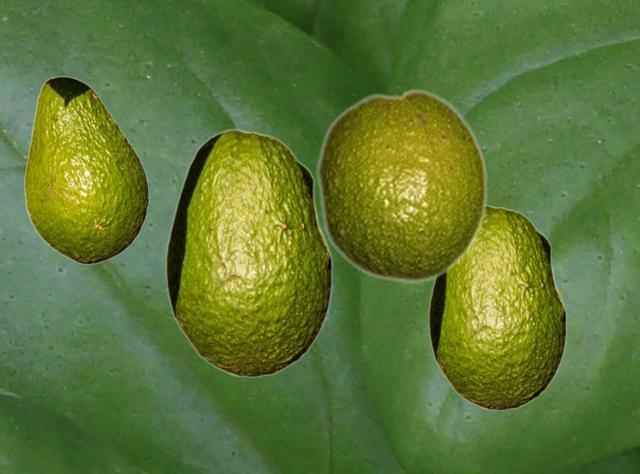avocado: (165, 128, 332, 377), (315, 87, 488, 284), (428, 204, 566, 410), (24, 76, 148, 263)
